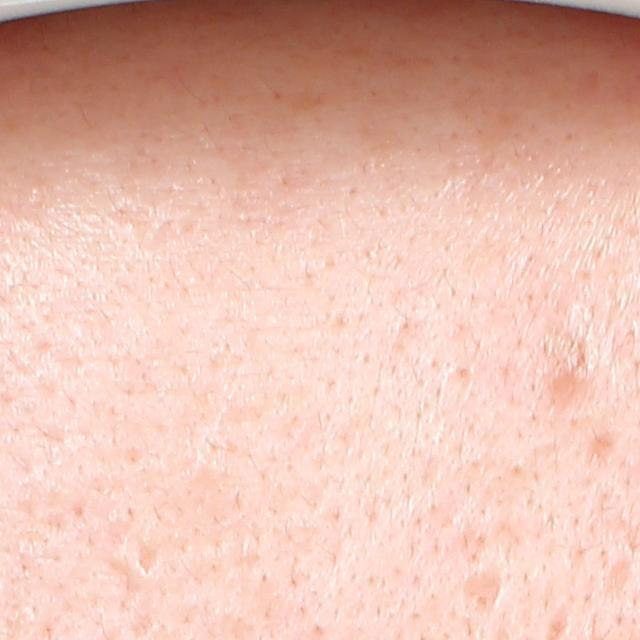atrophic_scar: (542, 371, 596, 418), (458, 571, 507, 617), (598, 554, 637, 600), (581, 433, 615, 473), (135, 537, 159, 576)
